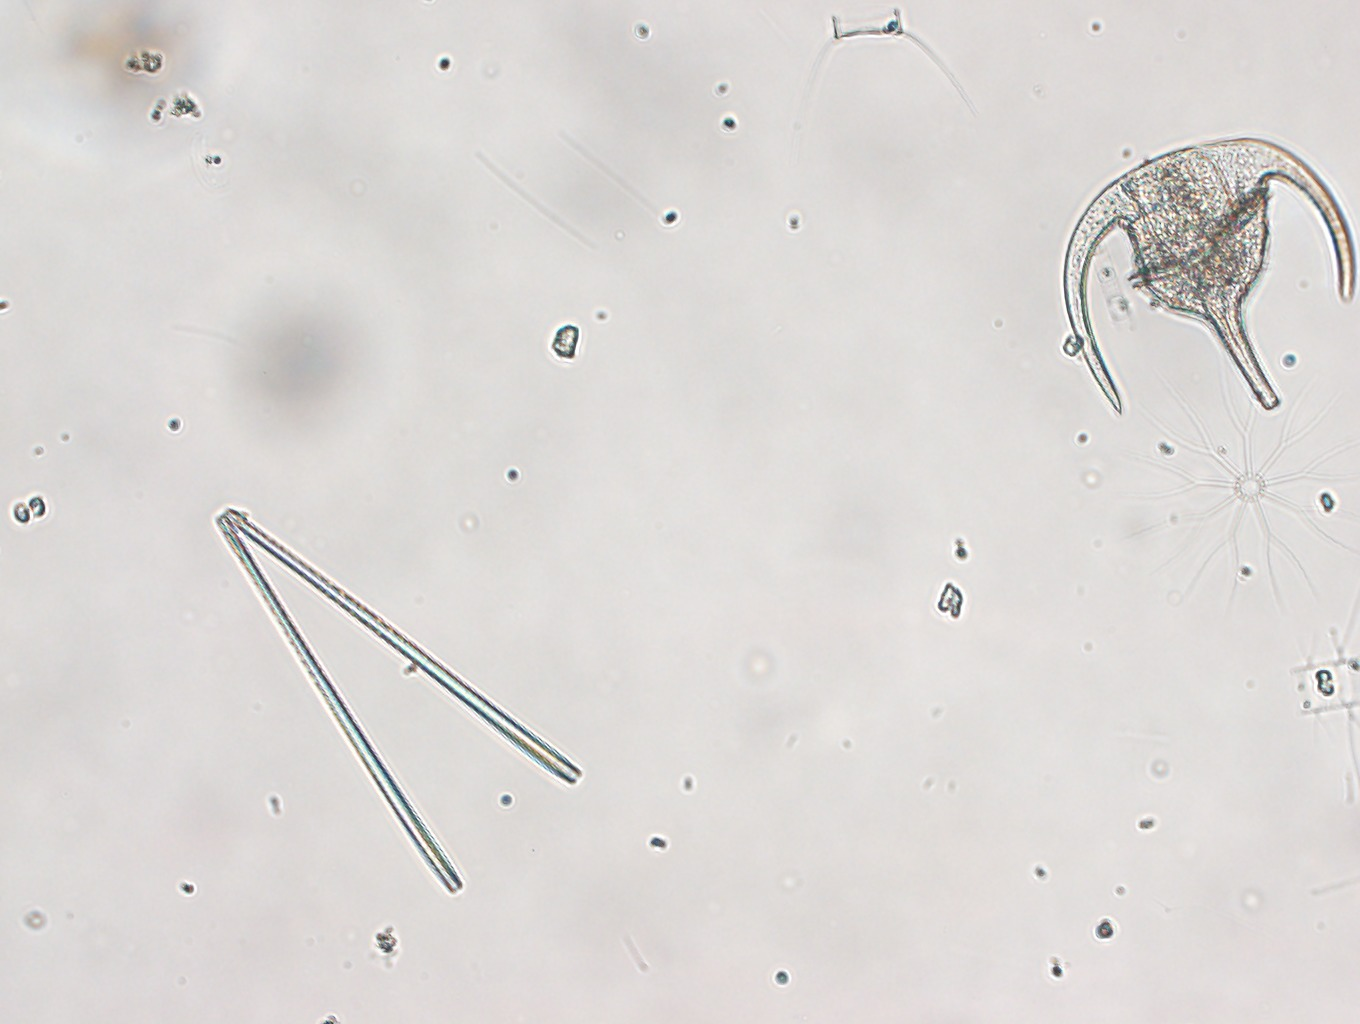bacteriastrum: (1131, 362, 1358, 623)
ceratium tripos: (1051, 124, 1360, 423)
chaetoceros: (776, 8, 982, 133), (1292, 583, 1360, 798)
thalassionema frauenfeldii: (209, 502, 584, 900)
